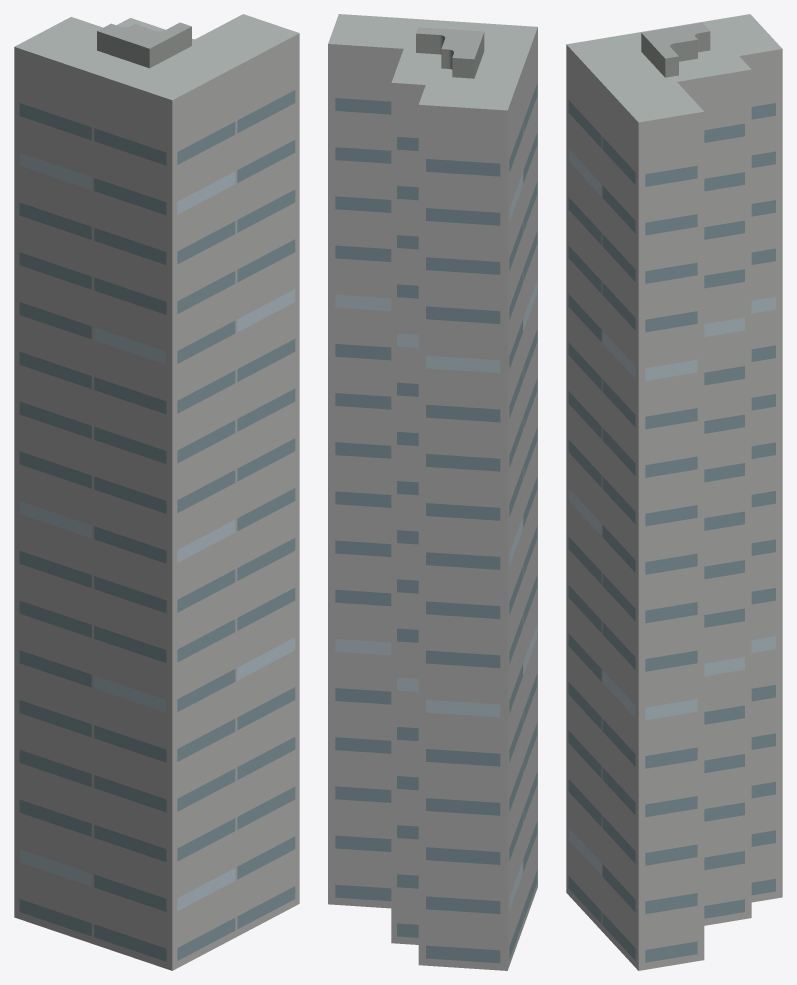
The model's file is fallback-seocho-grand-xi-109.glb.
3 renders of one model, left to right at view 1: azimuth 30°, elevation 25°; view 2: azimuth 150°, elevation 25°; view 3: azimuth 270°, elevation 25°, orthographic. The views are drawn at different scales.
Parts seen in each view (by area): view 1: fallback-seocho-grand-xi-109; view 2: fallback-seocho-grand-xi-109; view 3: fallback-seocho-grand-xi-109.
Boxes of the visible parts, bbox=[...] form: fallback-seocho-grand-xi-109: bbox=[14, 14, 299, 970]; fallback-seocho-grand-xi-109: bbox=[328, 14, 537, 970]; fallback-seocho-grand-xi-109: bbox=[566, 14, 782, 970].
Bounding box in the file's own units: 29.24 × 109 × 24.62.
